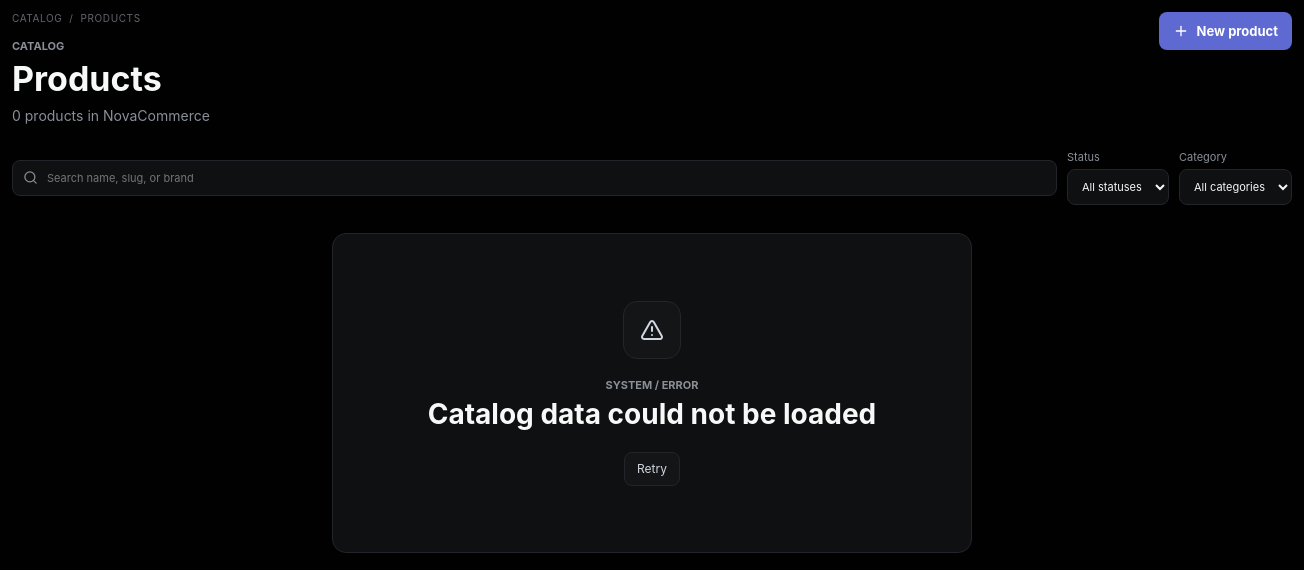
Test: ProductListPage › renders empty and retryable error states
Click the button "Retry" at (652, 469), box [624,452,680,486]
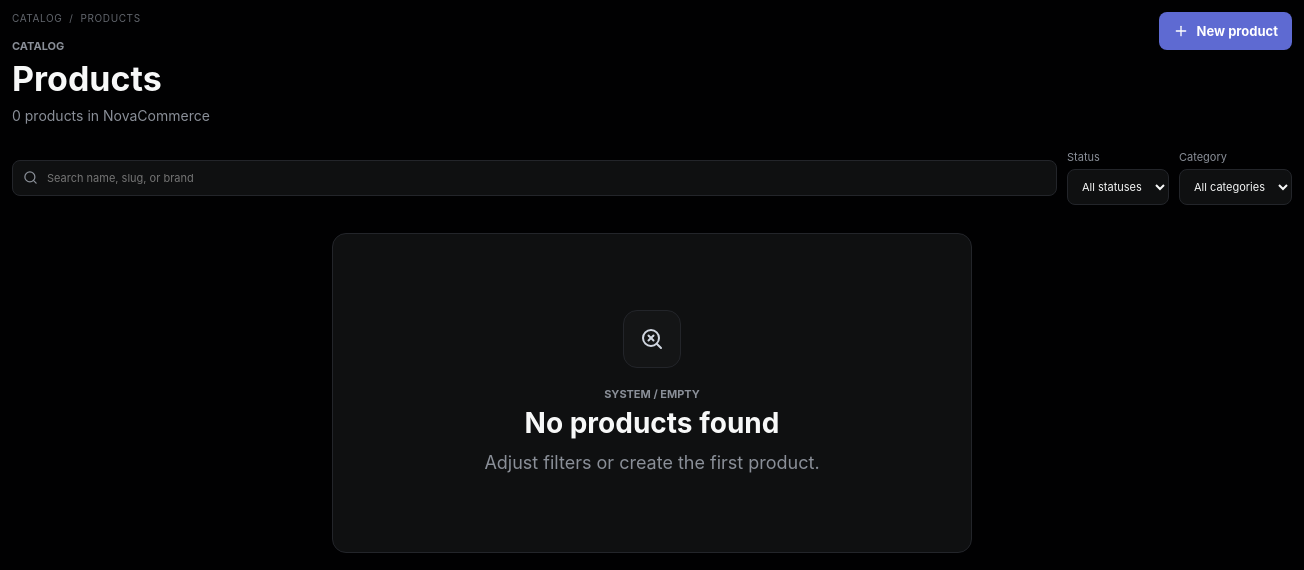
Expected: the heading "No products found" is shown, [525,409,779,439]
